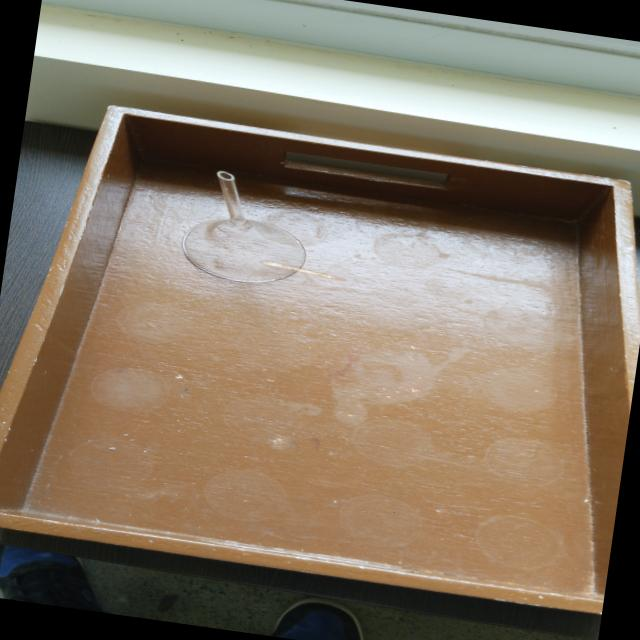funnel: (172, 165, 324, 292)
